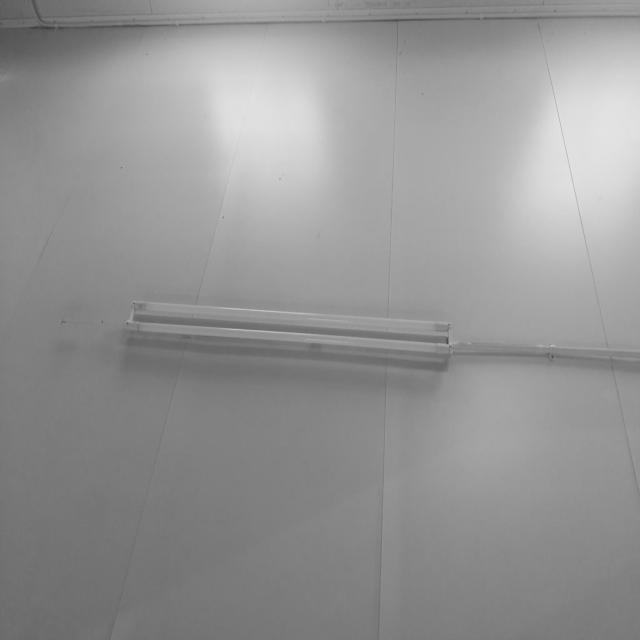light: (125, 299, 453, 362)
